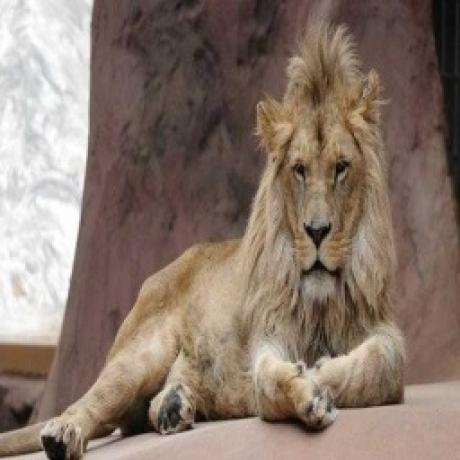Lion: (36, 30, 408, 460)
